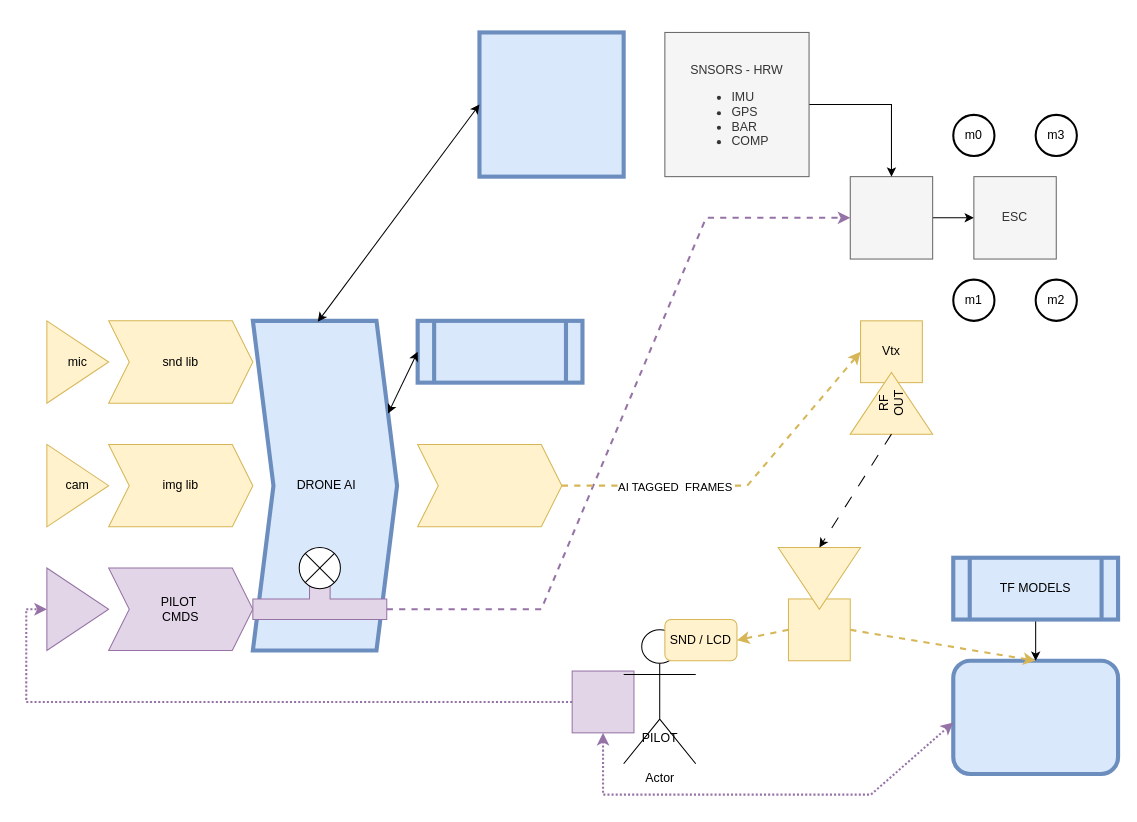
Some shapes in this 1137 by 822 pixel diagram are drawn without their labels. Here are the shapes that lost their labels. From the top down, the centre of each, then its label:
At [551,104]: "SNSORS - AI STRUC LIGHT IMG PROC".
At [891,217]: "FC".
At [499,351]: "TF LITE MODELS".
At [489,485]: "SND & AV out".
At [819,577]: "RF IN".
At [77,608]: "RF - IN".
At [818,629]: "Vrx".
At [1035,717]: "HIVE AI".
